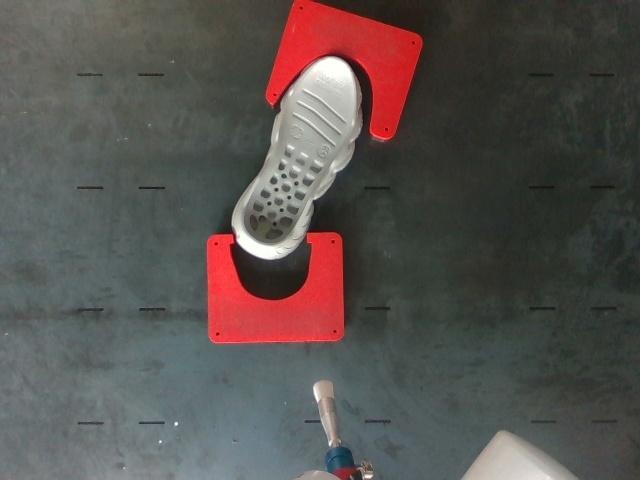shoes: (243, 58, 356, 245)
